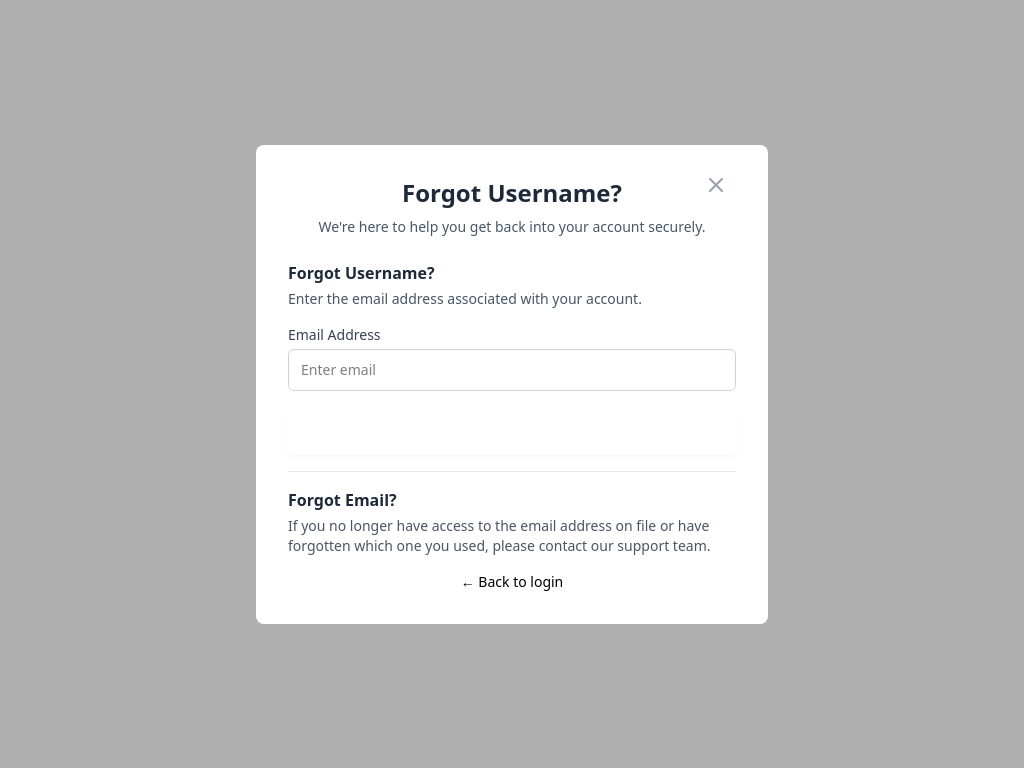
Scenario: ForgotUsernameForm Component › should use generic email-check error for non-Error failures
Type "fallback@example.com" into the field with placeholder "Enter email".
click(512, 370); type("fallback@example.com")  # box [288,348,736,390]
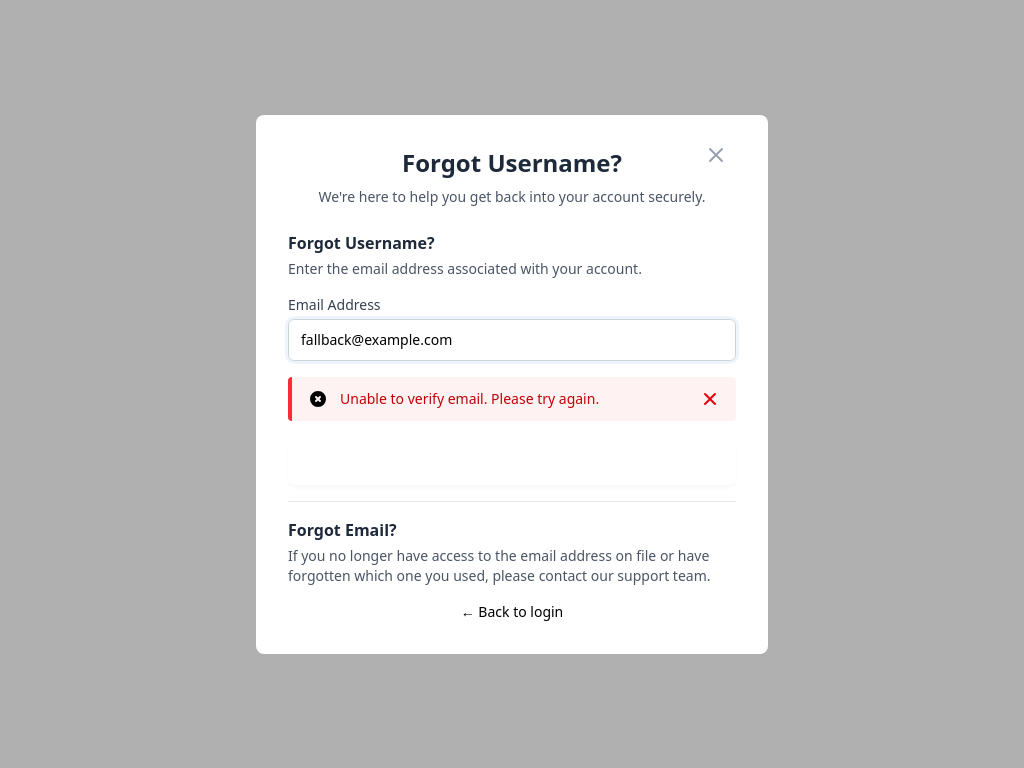
expect the text "Unable to verify email. Please try again." is shown: met, box [340,388,599,408]
